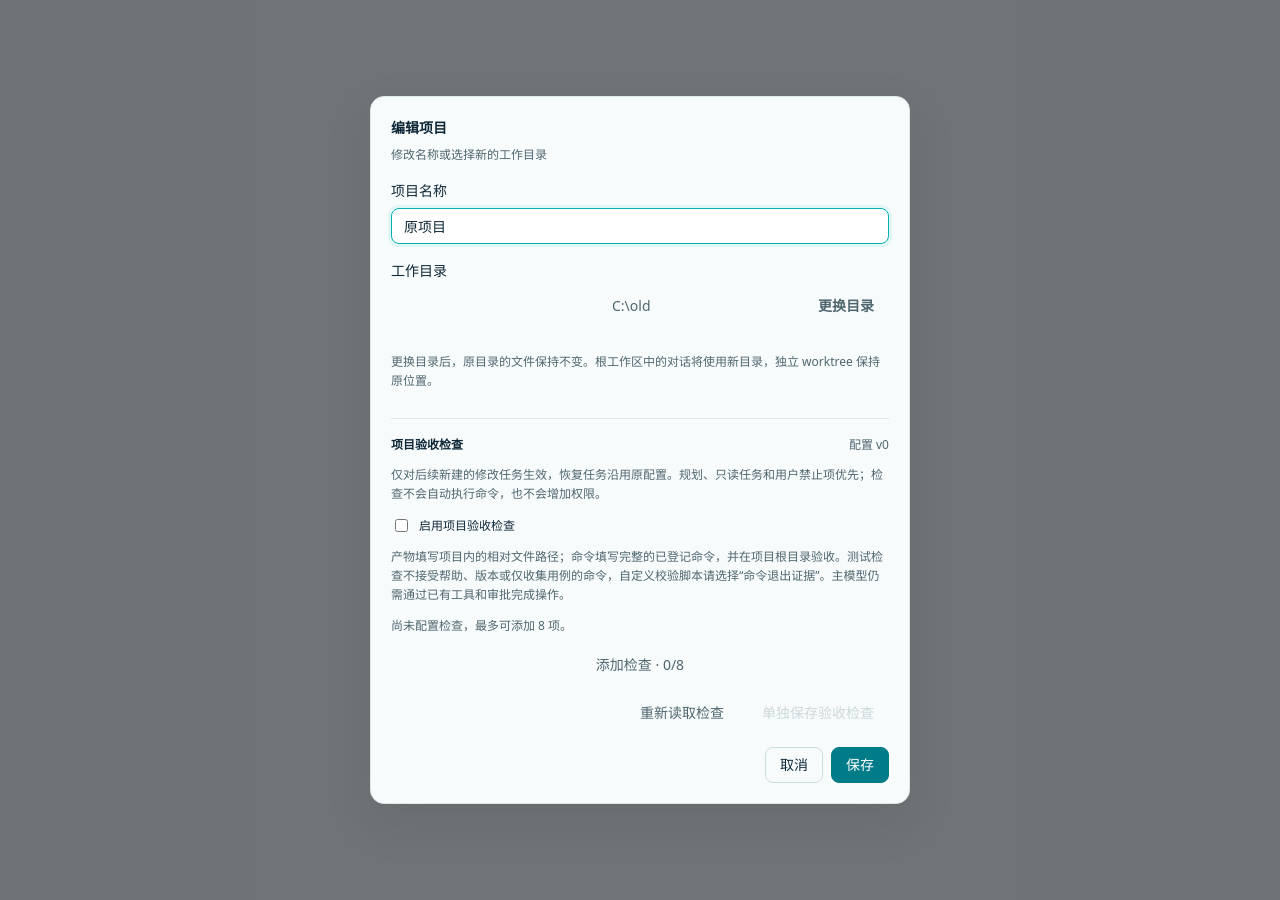
Test: EditProjectDialog › 正式项目弹窗接入独立验收配置，保存检查期间阻止关闭或提交名称目录
Expected: the number of dialogs is 1, x1=370 y1=96 x2=910 y2=804
Click the checkbox with test id "observer-config-enabled".
click(402, 525)  # box x1=395 y1=519 x2=408 y2=532
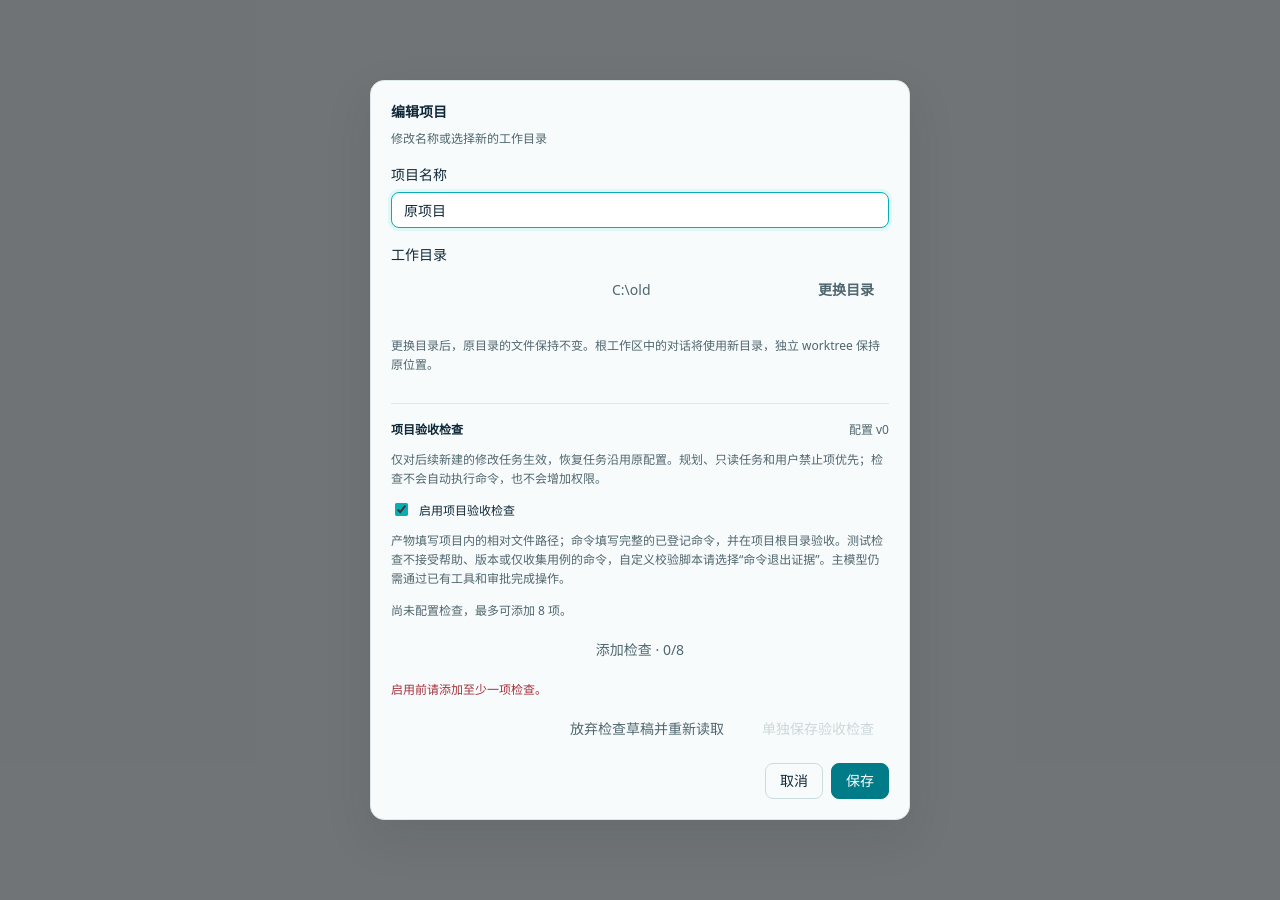
Click the button with test id "observer-config-add".
click(640, 650)  # box x1=391 y1=632 x2=889 y2=668
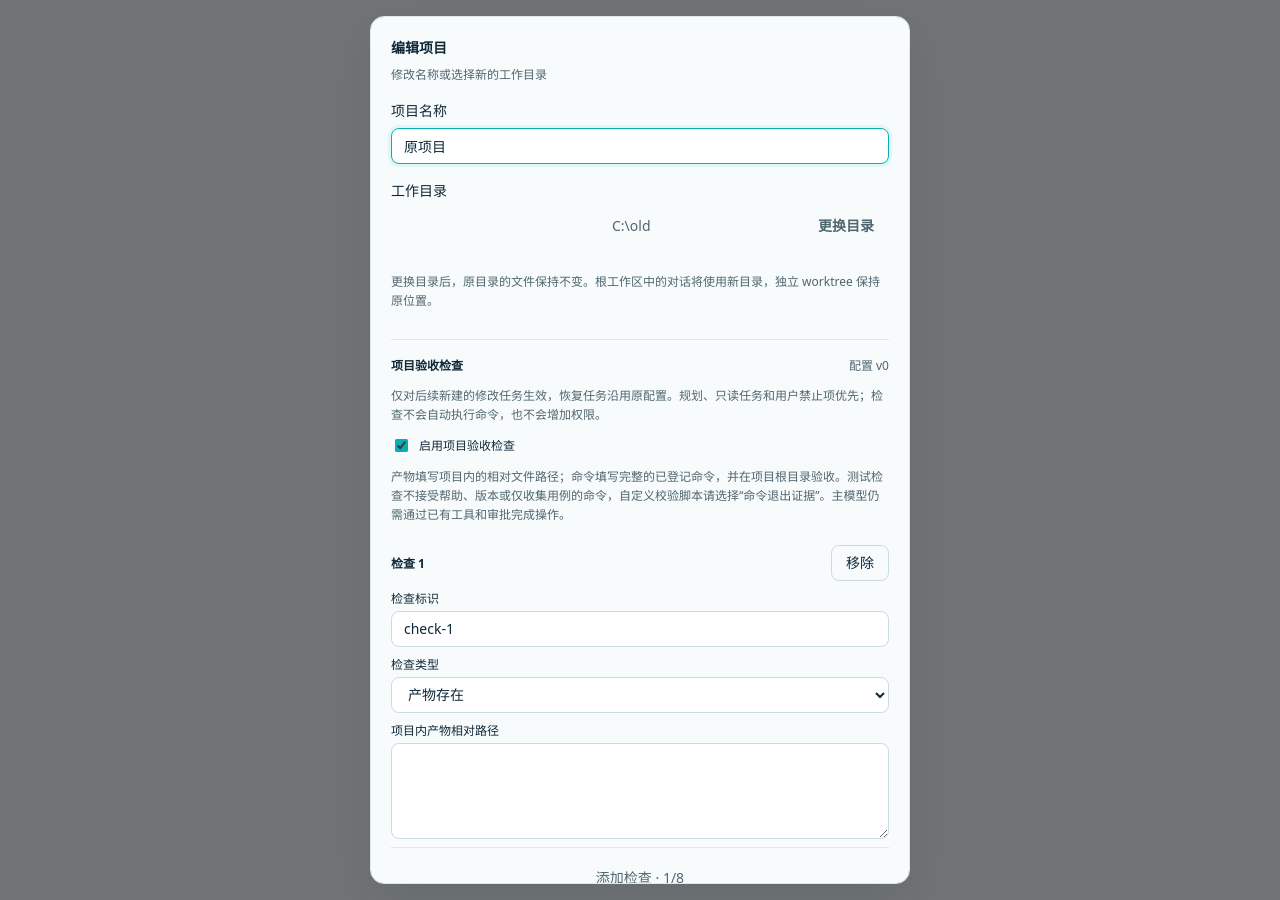
Type "result.json" into the text box with test id "observer-check-scope".
click(640, 790); type("result.json")  # box x1=391 y1=742 x2=889 y2=838
(page scrolled)
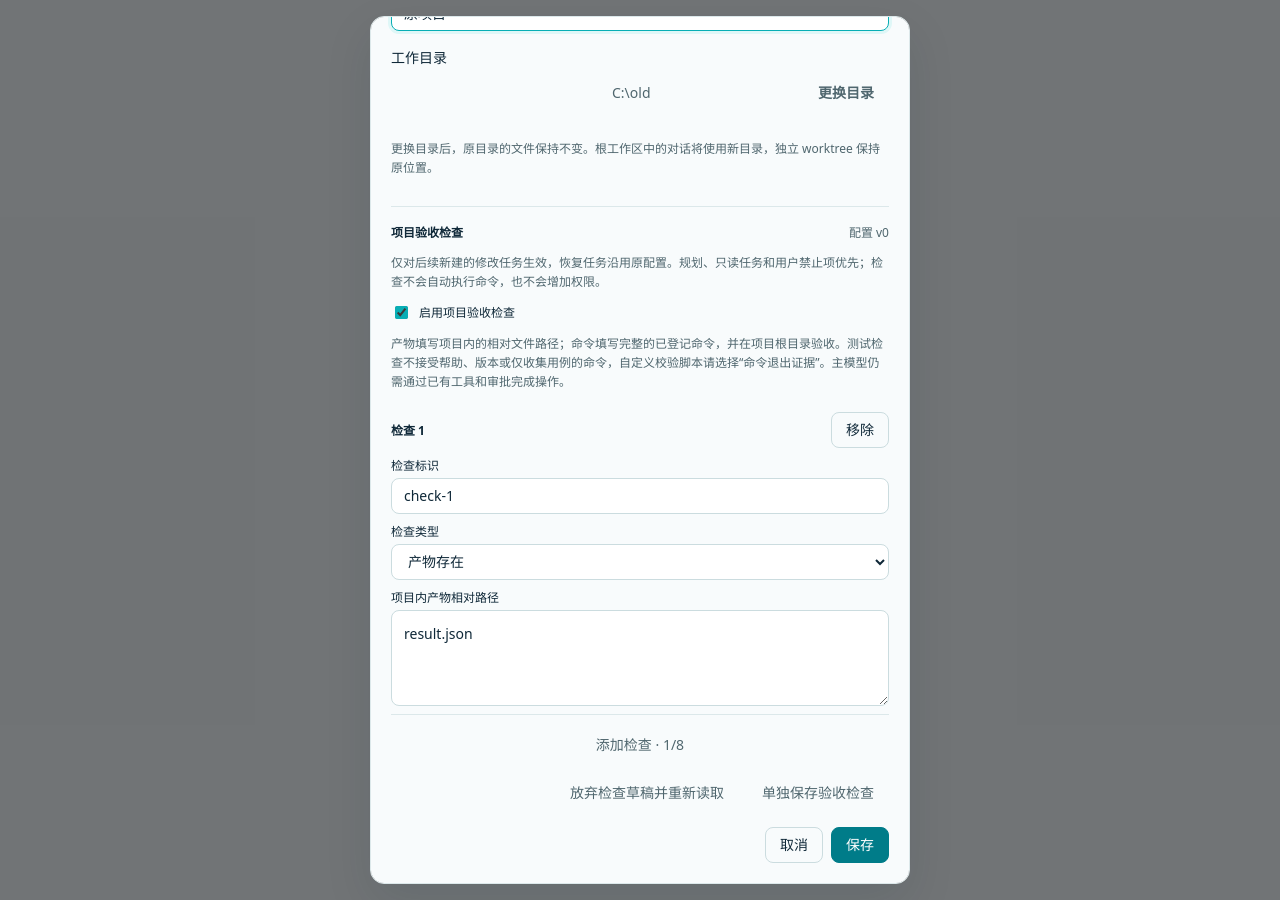
Click the button with test id "observer-config-save".
click(818, 792)  # box x1=747 y1=774 x2=889 y2=810
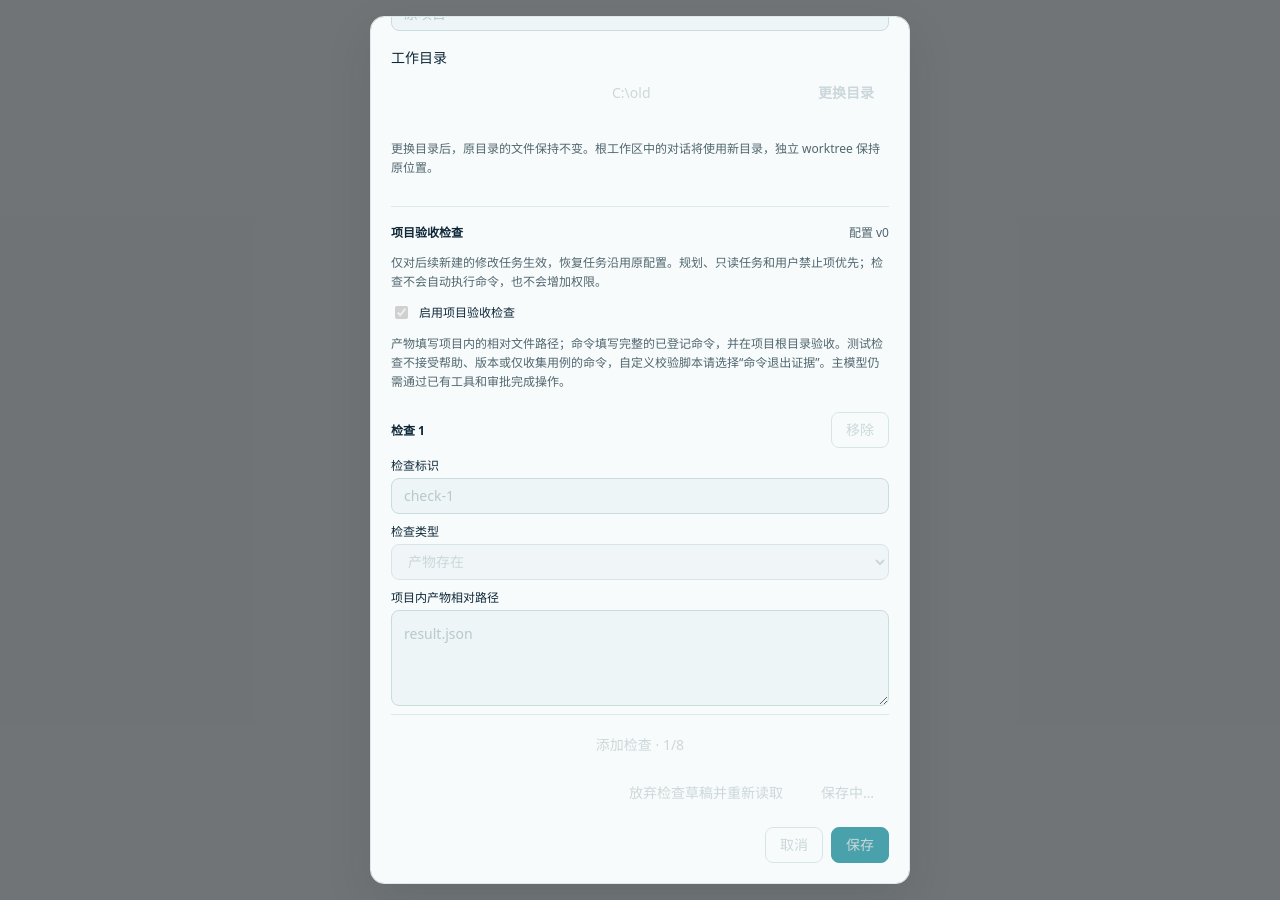
Result: the button with test id "edit-project-save" is disabled at x1=831 y1=826 x2=889 y2=862
Submit the dialog, box x1=370 y1=16 x2=910 y2=884
Press Escape in the dialog, box x1=370 y1=16 x2=910 y2=884
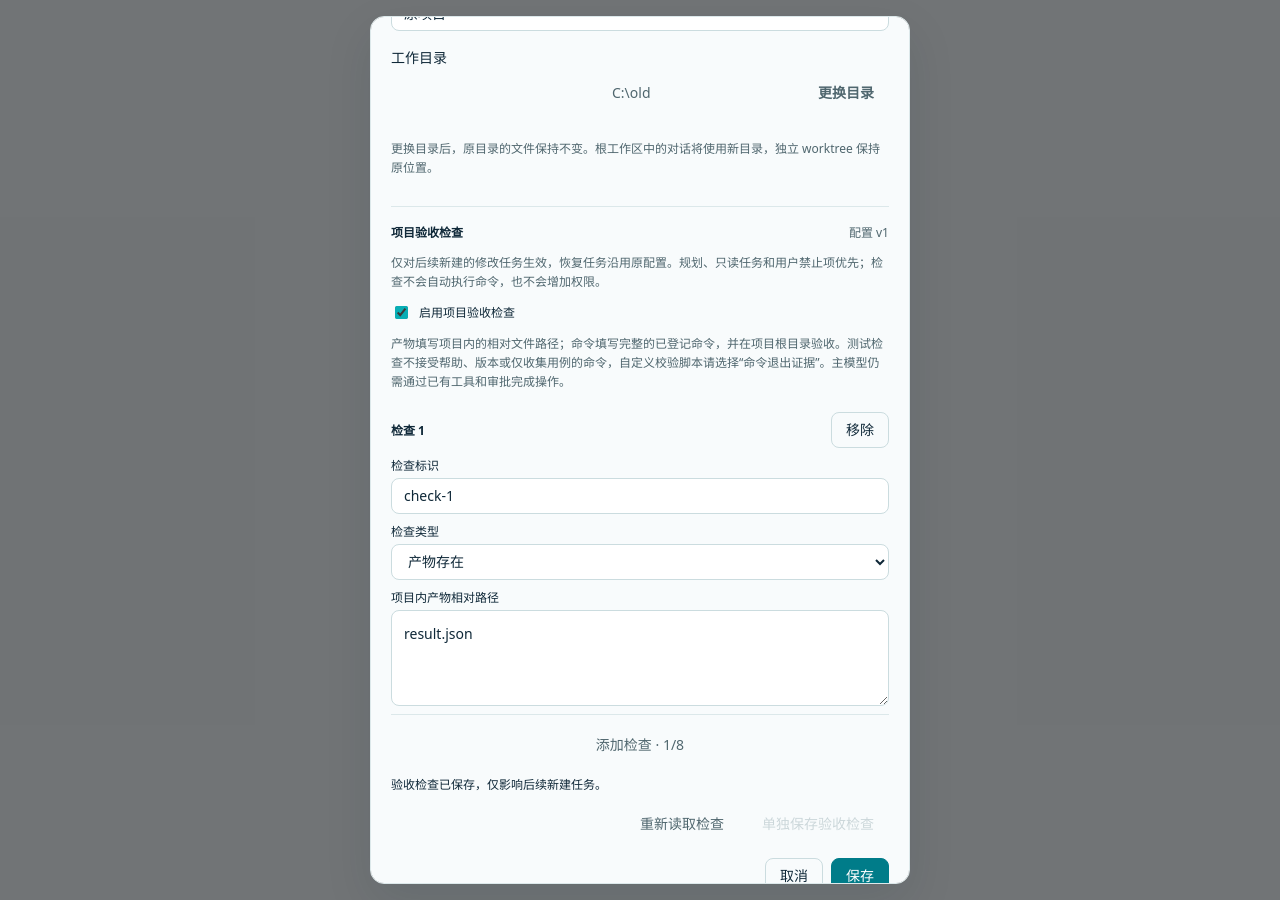
Result: the text "验收检查已保存" is shown at x1=391 y1=776 x2=607 y2=792
Result: the button with test id "edit-project-save" is enabled at x1=831 y1=858 x2=889 y2=884
